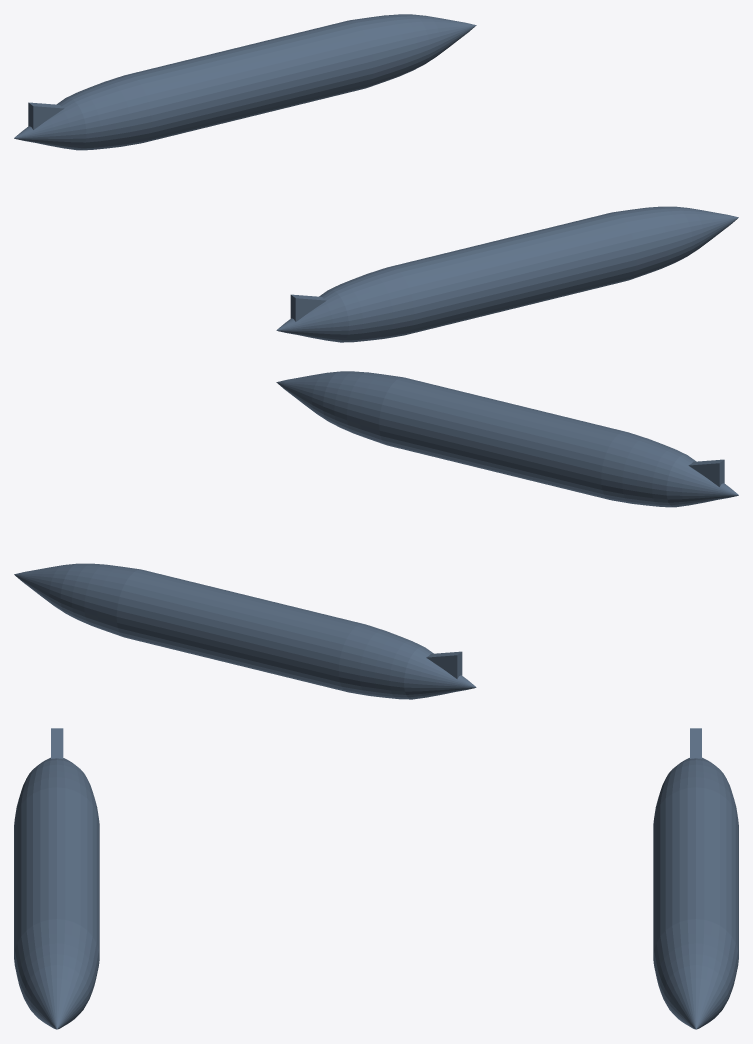
The picture shows the model from 3 angles, top to bottom: view 1: azimuth 30°, elevation 25°; view 2: azimuth 150°, elevation 25°; view 3: azimuth 270°, elevation 25°; orthographic projection. The views are drawn at different scales.
Visible parts, largest first — view 1: 円柱.001, 円柱, 立方体.012, 立方体.010; view 2: 円柱, 円柱.001, 立方体.010, 立方体.012; view 3: 円柱, 円柱.001.
Boxes of the visible parts, x1=… form: 円柱.001: x1=276, y1=206, x2=738, y2=342; 円柱: x1=14, y1=14, x2=476, y2=150; 立方体.012: x1=290, y1=294, x2=326, y2=321; 立方体.010: x1=28, y1=102, x2=64, y2=129; 円柱: x1=14, y1=563, x2=476, y2=699; 円柱.001: x1=276, y1=371, x2=738, y2=507; 立方体.010: x1=426, y1=651, x2=462, y2=678; 立方体.012: x1=688, y1=459, x2=724, y2=486; 円柱: x1=653, y1=757, x2=738, y2=1029; 円柱.001: x1=14, y1=757, x2=99, y2=1029.
Bounding box in the file's own units: 5.41 × 0.7163 × 6.03.
